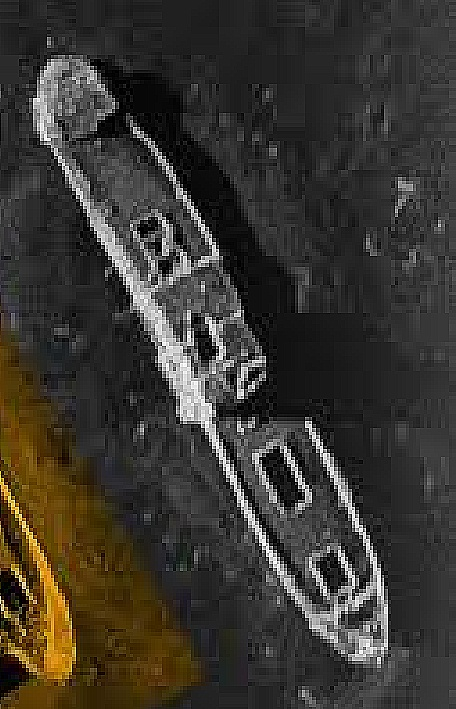ship: (29, 51, 390, 674)
